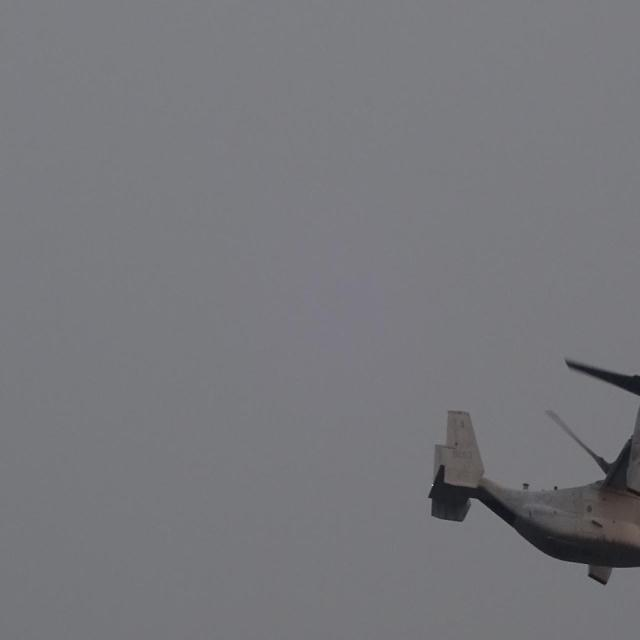MIL_Plane: (432, 354, 635, 586)
